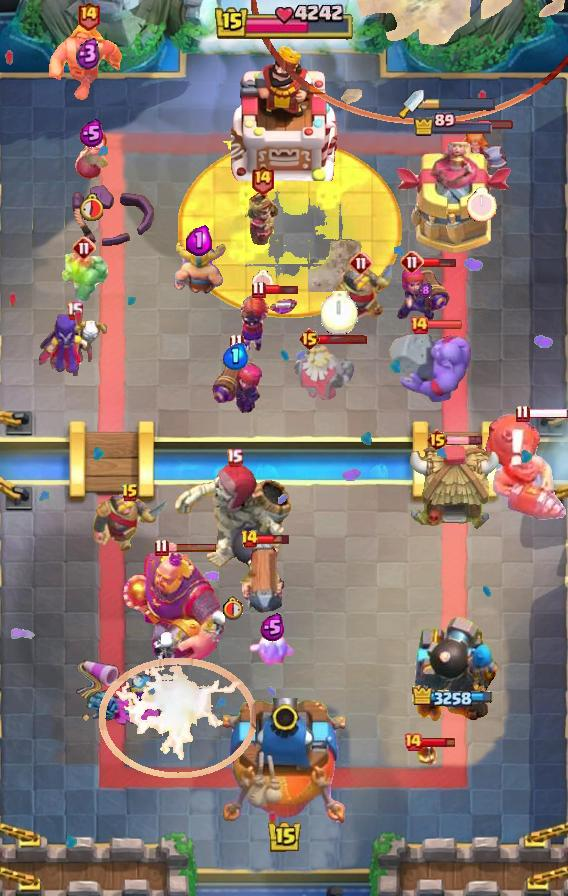archer-queen: (385, 329, 475, 407)
axe: (39, 314, 109, 376)
bar: (394, 142, 512, 256)
barbarian-evolution: (99, 657, 256, 779)
battle-healer: (240, 543, 288, 619)
bomber: (415, 739, 437, 765)
bomber-evolution: (245, 193, 279, 245)
clock: (213, 3, 355, 43)
electro-giant: (173, 463, 295, 575)
electro-spirit: (186, 224, 212, 255), (76, 38, 101, 70), (80, 120, 105, 149), (259, 614, 284, 643), (223, 342, 249, 369), (418, 282, 432, 299)
elixir: (322, 290, 359, 333), (467, 187, 497, 222), (79, 193, 103, 221), (223, 596, 245, 620), (252, 270, 273, 294)
emote: (166, 542, 218, 553), (318, 334, 368, 345), (528, 408, 568, 421), (421, 735, 456, 749), (264, 284, 300, 297), (256, 533, 291, 545), (445, 434, 482, 445), (478, 119, 514, 130), (421, 257, 457, 268), (427, 318, 463, 329)
firecracker: (92, 492, 168, 551), (332, 265, 392, 329)
fisherman: (308, 240, 370, 292)
goblin-giant: (171, 243, 227, 297)
goblin-hut: (46, 23, 130, 101)
hog-rider: (456, 128, 508, 182)
ice-golem: (73, 130, 109, 182)
king-tower: (223, 698, 345, 826), (231, 43, 337, 181)
king-tower-bar: (424, 97, 496, 111)
lightning: (121, 553, 225, 671)
mega-minion: (397, 260, 453, 332), (208, 346, 264, 418)
mirror: (247, 631, 297, 669)
mortar-evolution: (294, 340, 356, 400)
phoenix-egg: (177, 141, 402, 318)
prince: (406, 442, 500, 532)
royal-ghost: (252, 0, 568, 124)
selected: (413, 686, 496, 711), (414, 112, 495, 137)
tesla-evolution: (236, 290, 298, 352)
text: (76, 0, 101, 31), (250, 165, 275, 196), (72, 236, 96, 260), (400, 250, 424, 274), (349, 251, 373, 275), (299, 327, 322, 351), (427, 428, 450, 452), (409, 315, 429, 335), (403, 732, 423, 752), (241, 529, 260, 549), (121, 483, 139, 503), (225, 449, 243, 468), (66, 301, 83, 319), (250, 281, 265, 300), (154, 539, 169, 557), (229, 332, 243, 351), (515, 405, 529, 424)
tower-bar: (403, 615, 503, 731)
valkyrie-evolution: (58, 252, 110, 304)
wizard: (482, 411, 568, 521)
